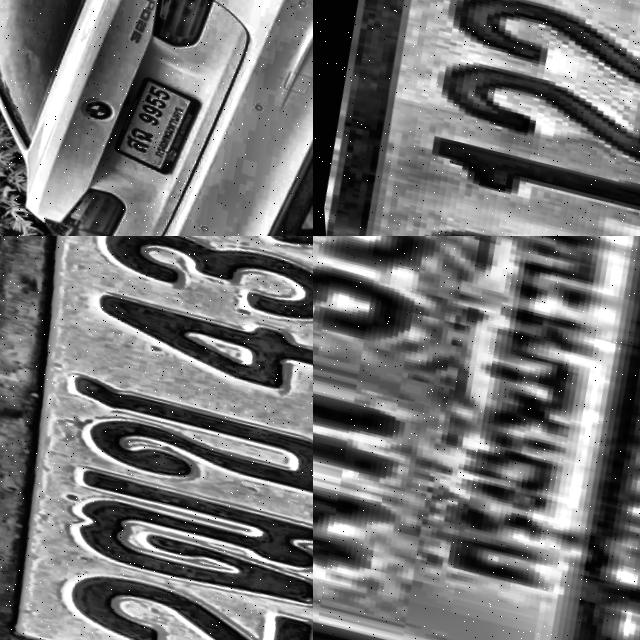license-plate: (313, 236, 640, 640), (0, 236, 313, 640), (313, 0, 640, 236), (98, 68, 201, 180)
